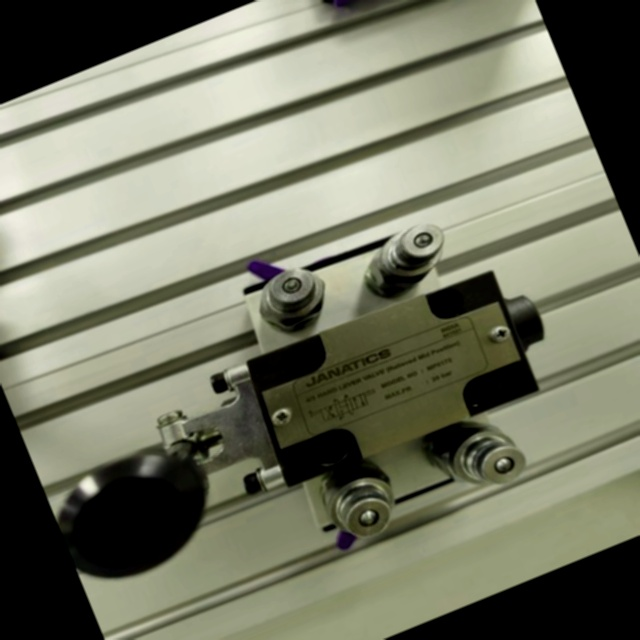4by3 hand lever valve: (0, 157, 608, 640)
